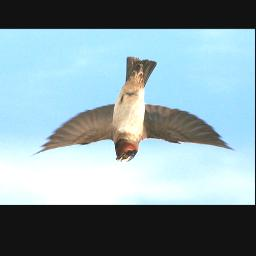Swallow: (28, 56, 236, 163)
